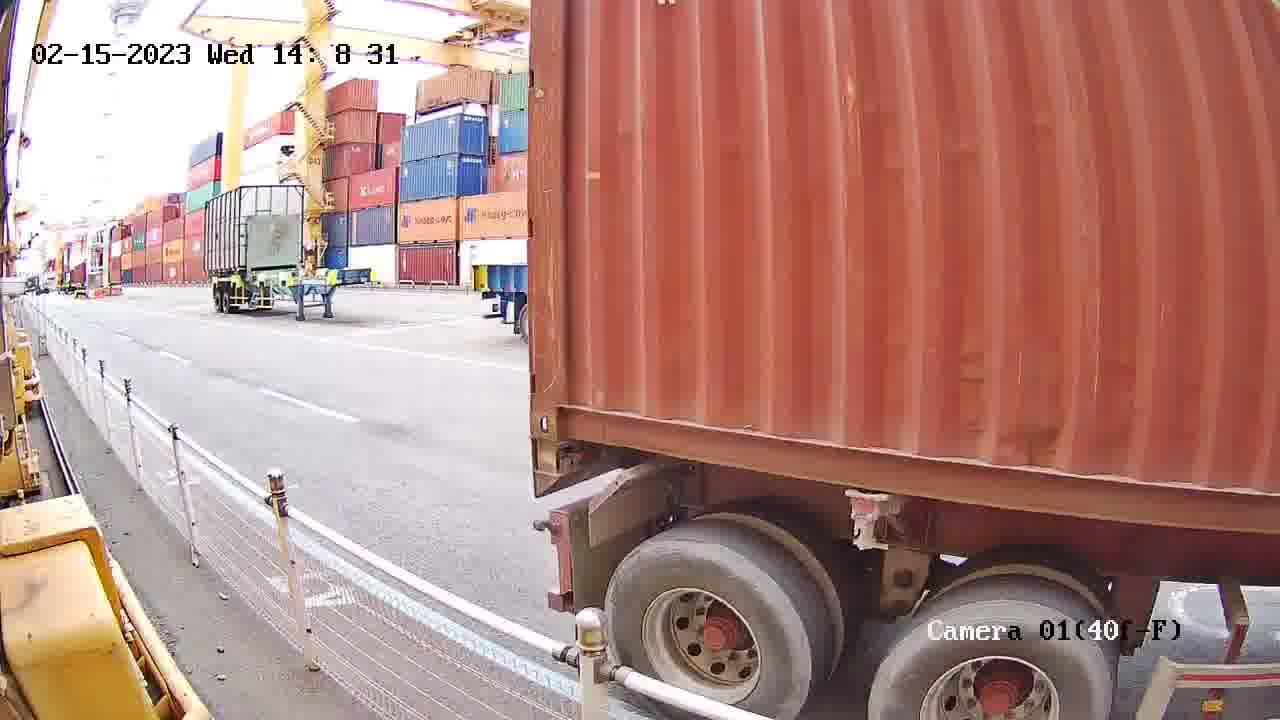Cone: (532, 439, 560, 491)
Hole_L: (532, 364, 592, 441)
Tire: (607, 536, 814, 719), (866, 601, 1110, 719)
